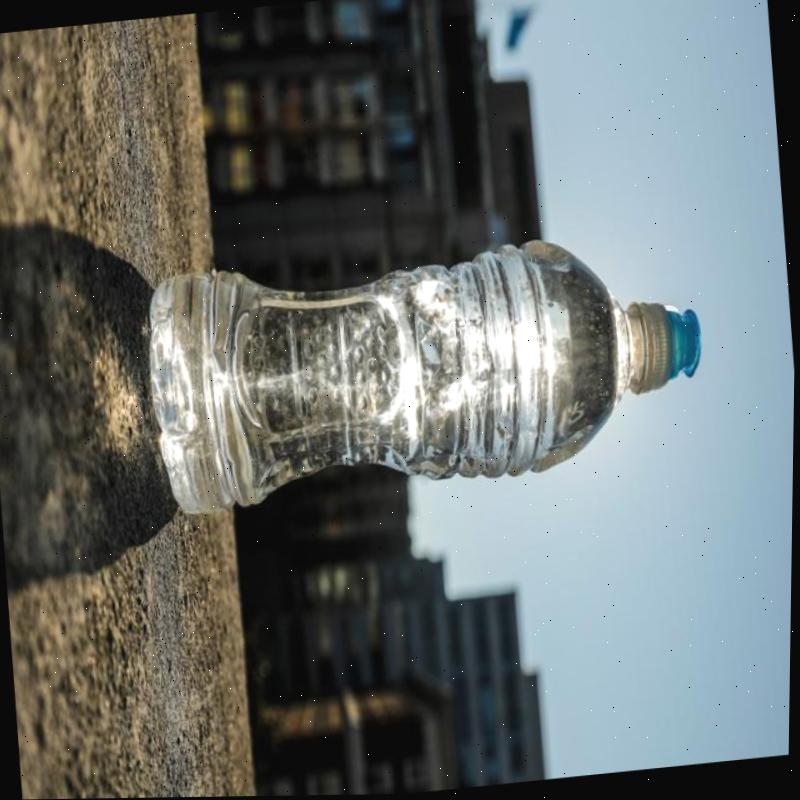botella: (143, 217, 720, 525)
